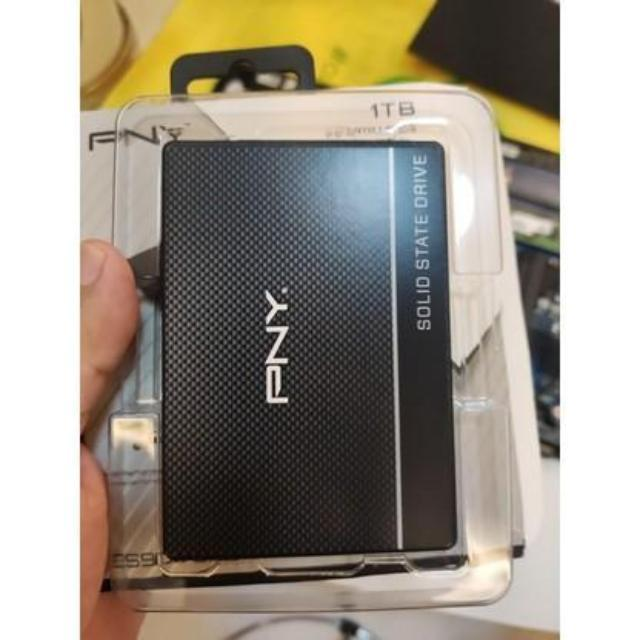DISK: (149, 131, 477, 563)
